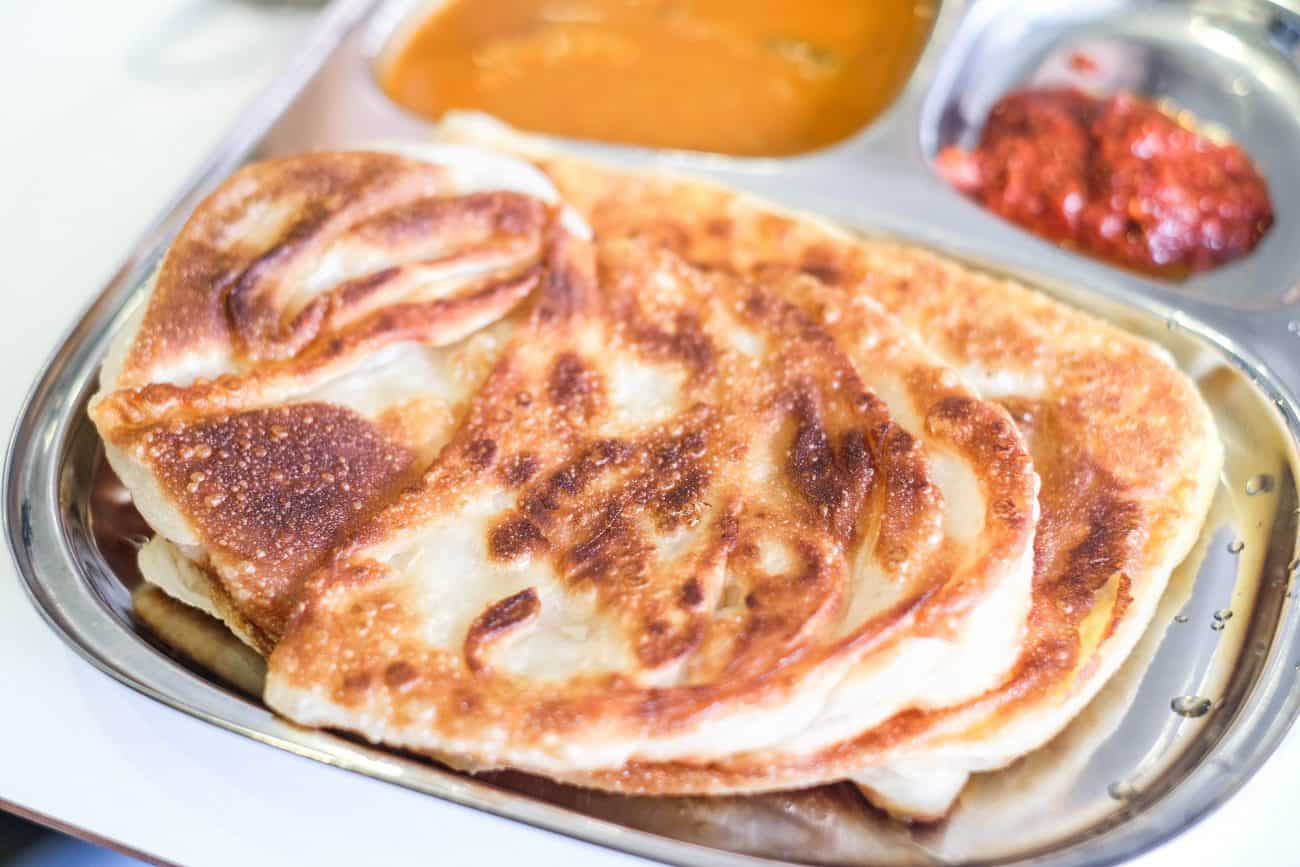Prata: (132, 126, 1227, 843)
